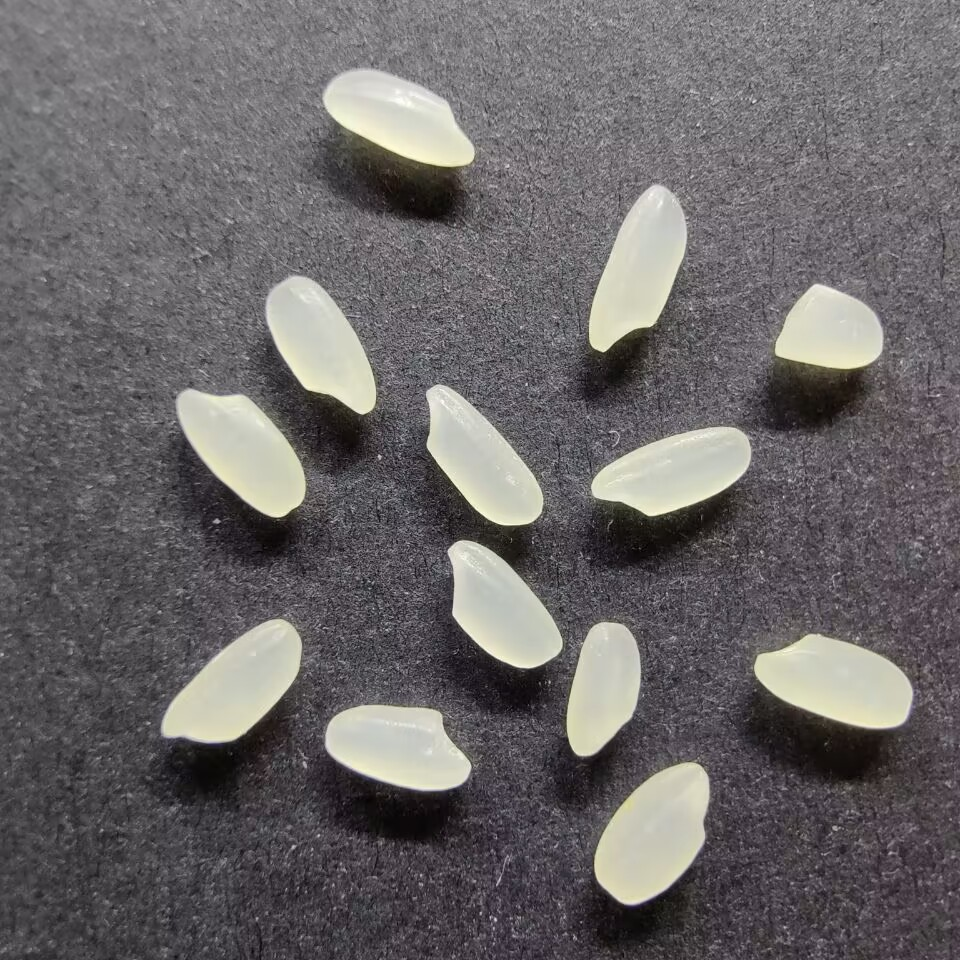broken: (773, 281, 884, 371)
rice: (154, 617, 305, 744), (421, 380, 544, 529), (586, 181, 689, 356), (591, 760, 711, 909), (173, 387, 307, 519), (264, 272, 378, 415), (753, 631, 915, 729), (445, 538, 565, 670), (586, 425, 754, 518), (322, 68, 478, 167), (322, 702, 473, 792), (565, 620, 643, 759)
